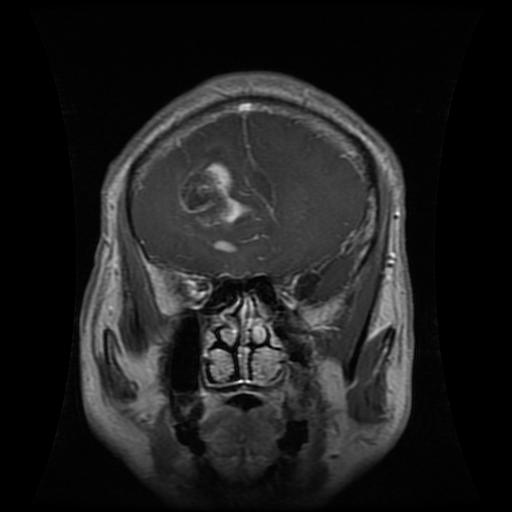Gliomia_tumour: (176, 156, 258, 226)
